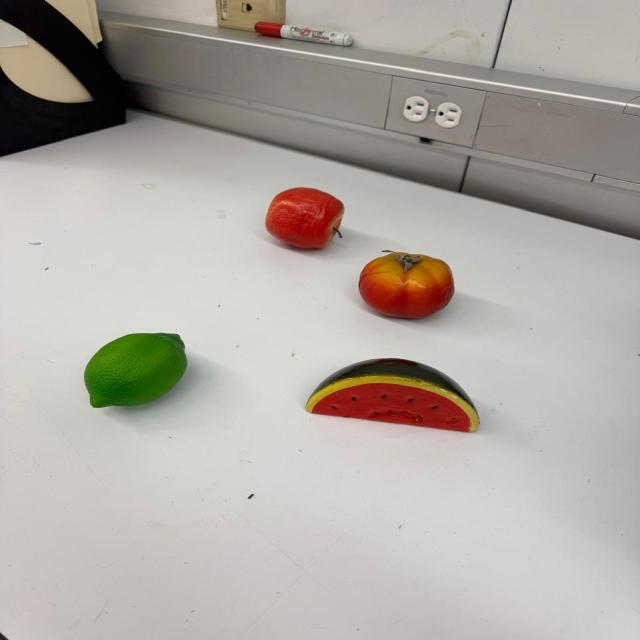apple: (264, 188, 344, 250)
lemon: (83, 333, 187, 408)
tomato: (358, 251, 454, 320)
watermelon: (304, 357, 478, 434)
